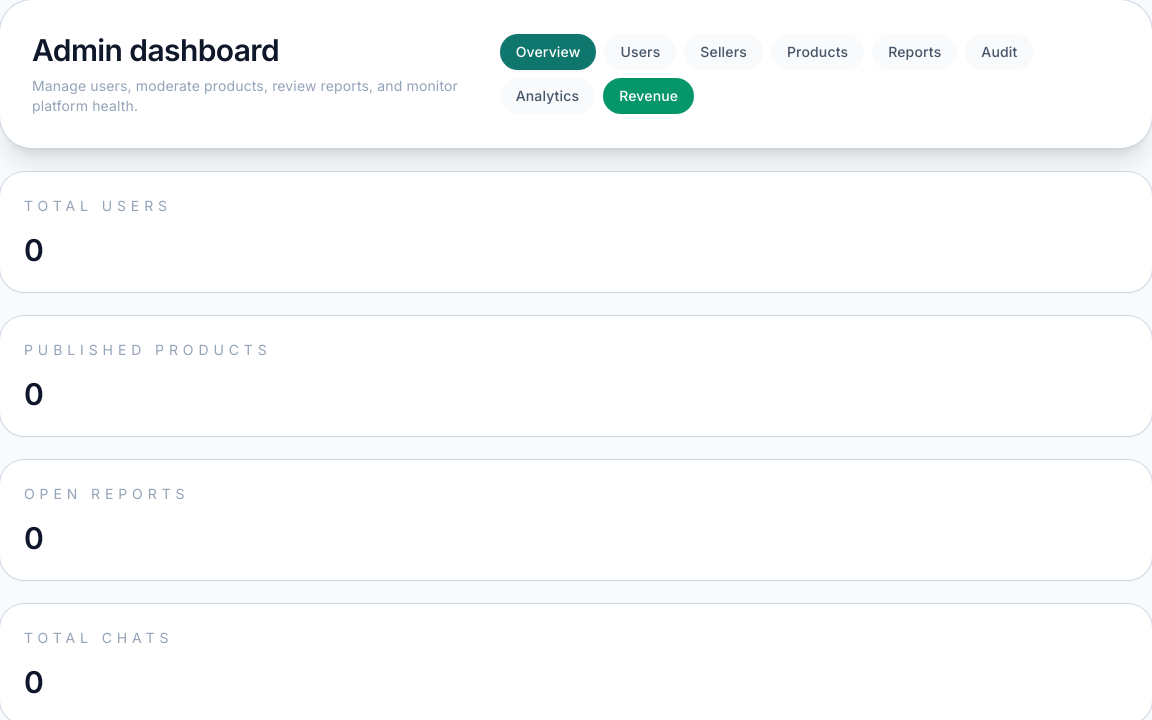
AdminDashboardPage › shows a message when updating product status fails
Click the button "Products": (818, 52) [771,34,864,70]
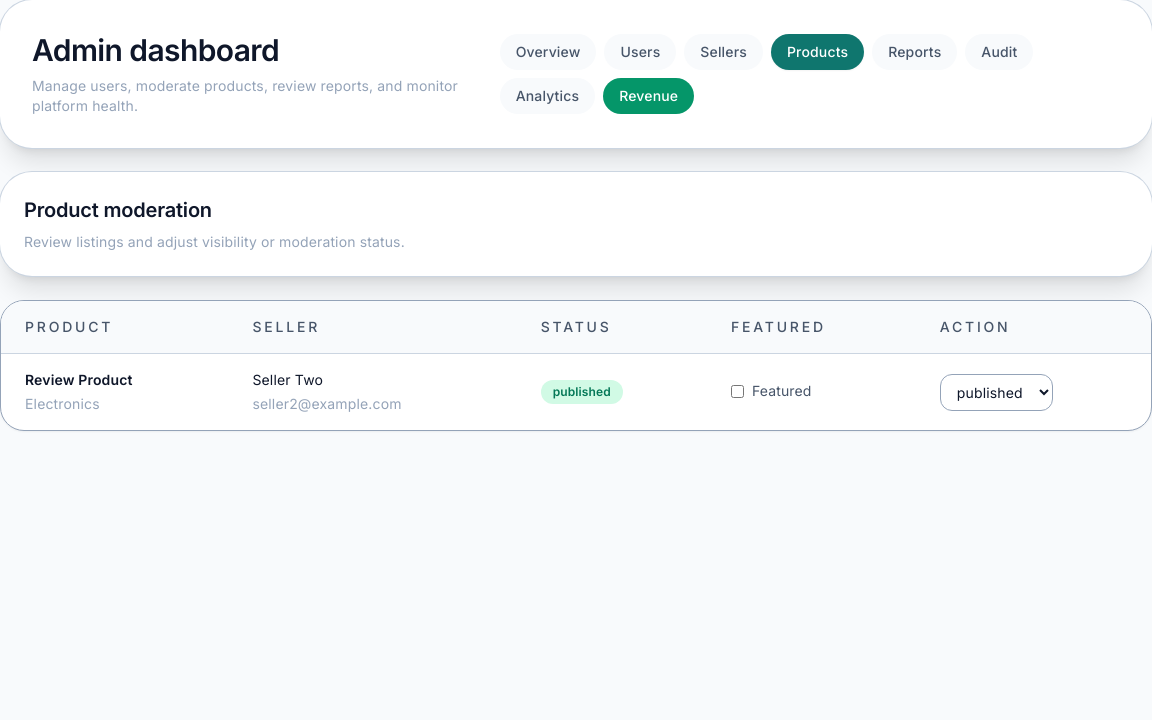
Select "flagged" in the dropdown: (996, 392) [940,374,1053,410]
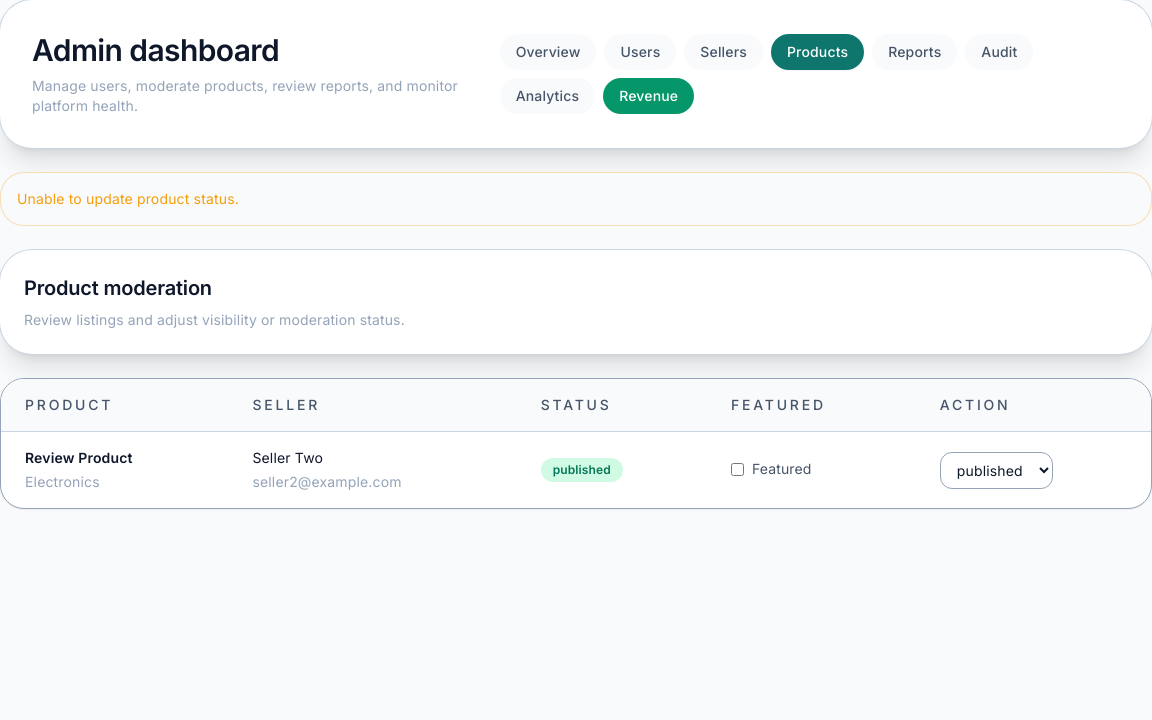
Result: the text "Unable to update product status." is shown at [0,172,1151,226]
